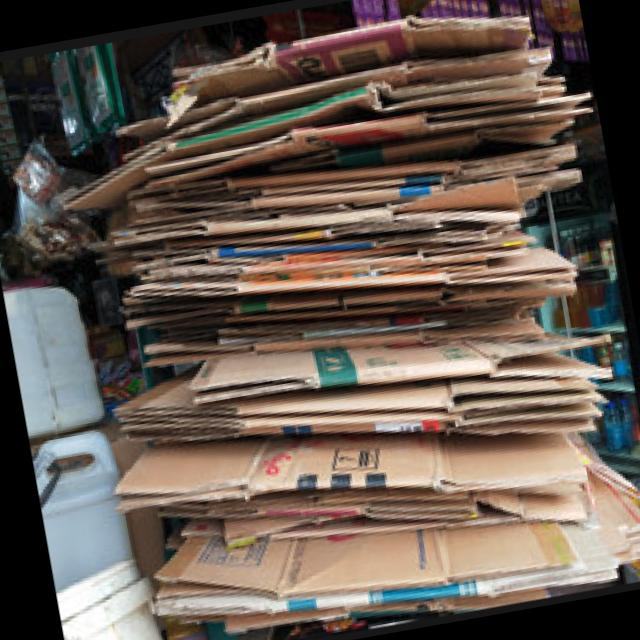Kardus: (38, 0, 640, 640)
